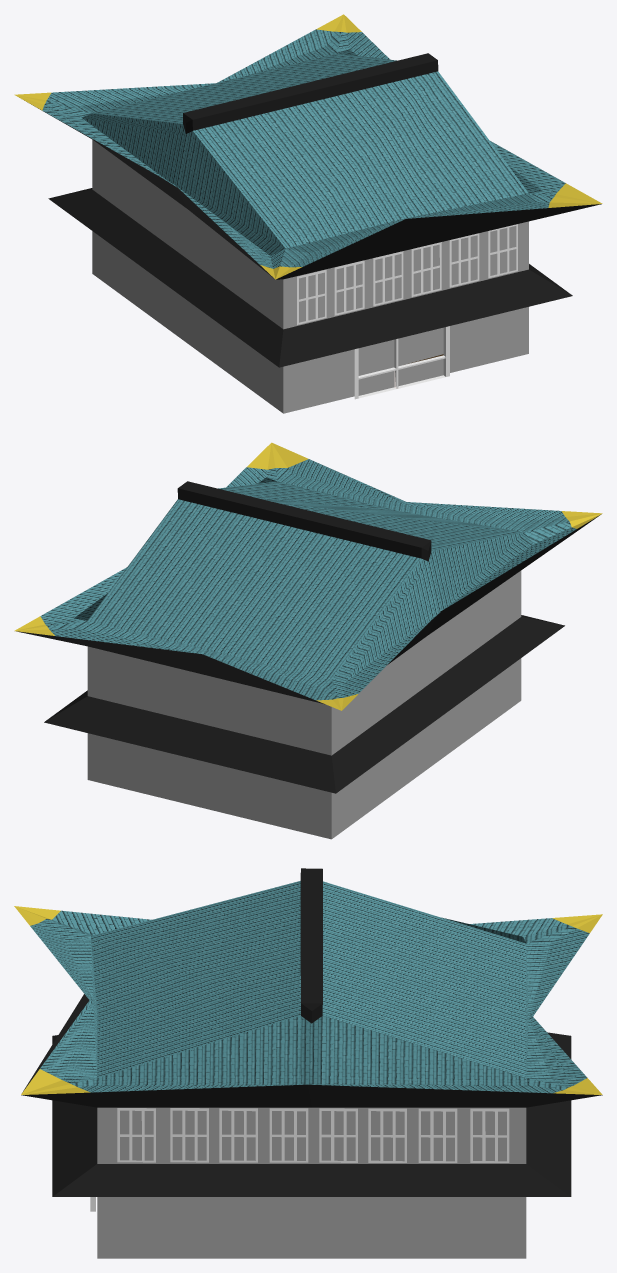
Rendered from tea building.fbx.
3 renders of one model, top to bottom at view 1: azimuth 30°, elevation 25°; view 2: azimuth 150°, elevation 25°; view 3: azimuth 270°, elevation 25°, orthographic. The views are drawn at different scales.
Visible parts, largest first — view 1: Cube.005, Cube; view 2: Cube.005; view 3: Cube.005.
Boxes of the visible parts, x1,y1,x2,y2 form: Cube.005: (14,14,602,413); Cube: (354,326,449,399); Cube.005: (14,442,602,839); Cube.005: (14,868,602,1258).
Bounding box in the file's own units: 691 × 455 × 950.
